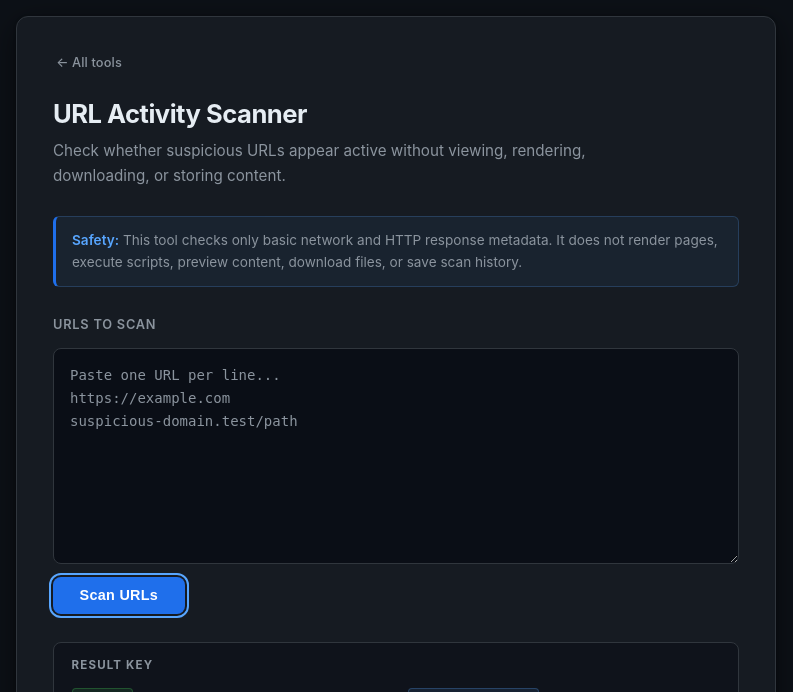
Test: R1 — results visibility and focus › does not move focus or scroll on a validation failure
Click the button "Scan URLs": click(119, 595) [53, 577, 185, 614]
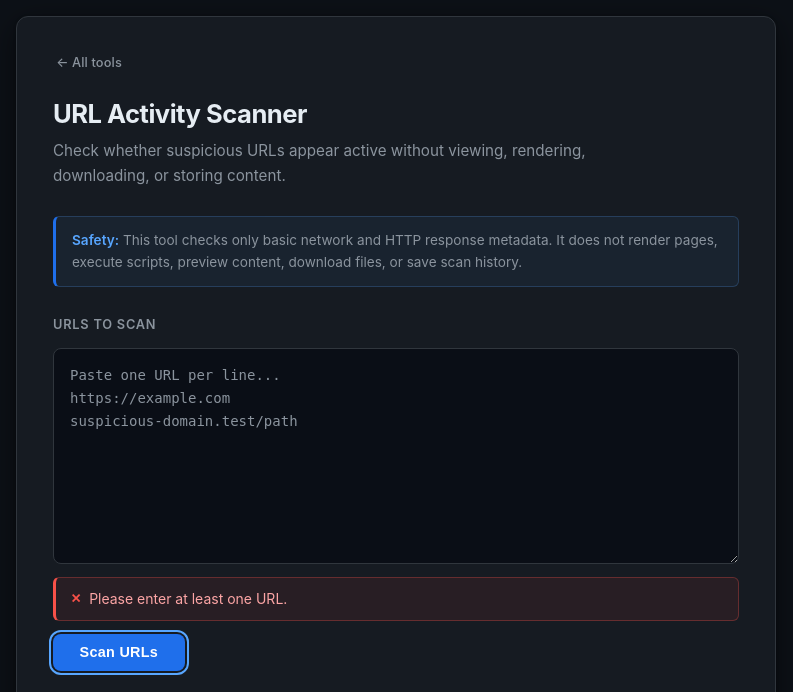
Expected: the message "Please enter at least one URL." is shown, [53, 577, 739, 621]
